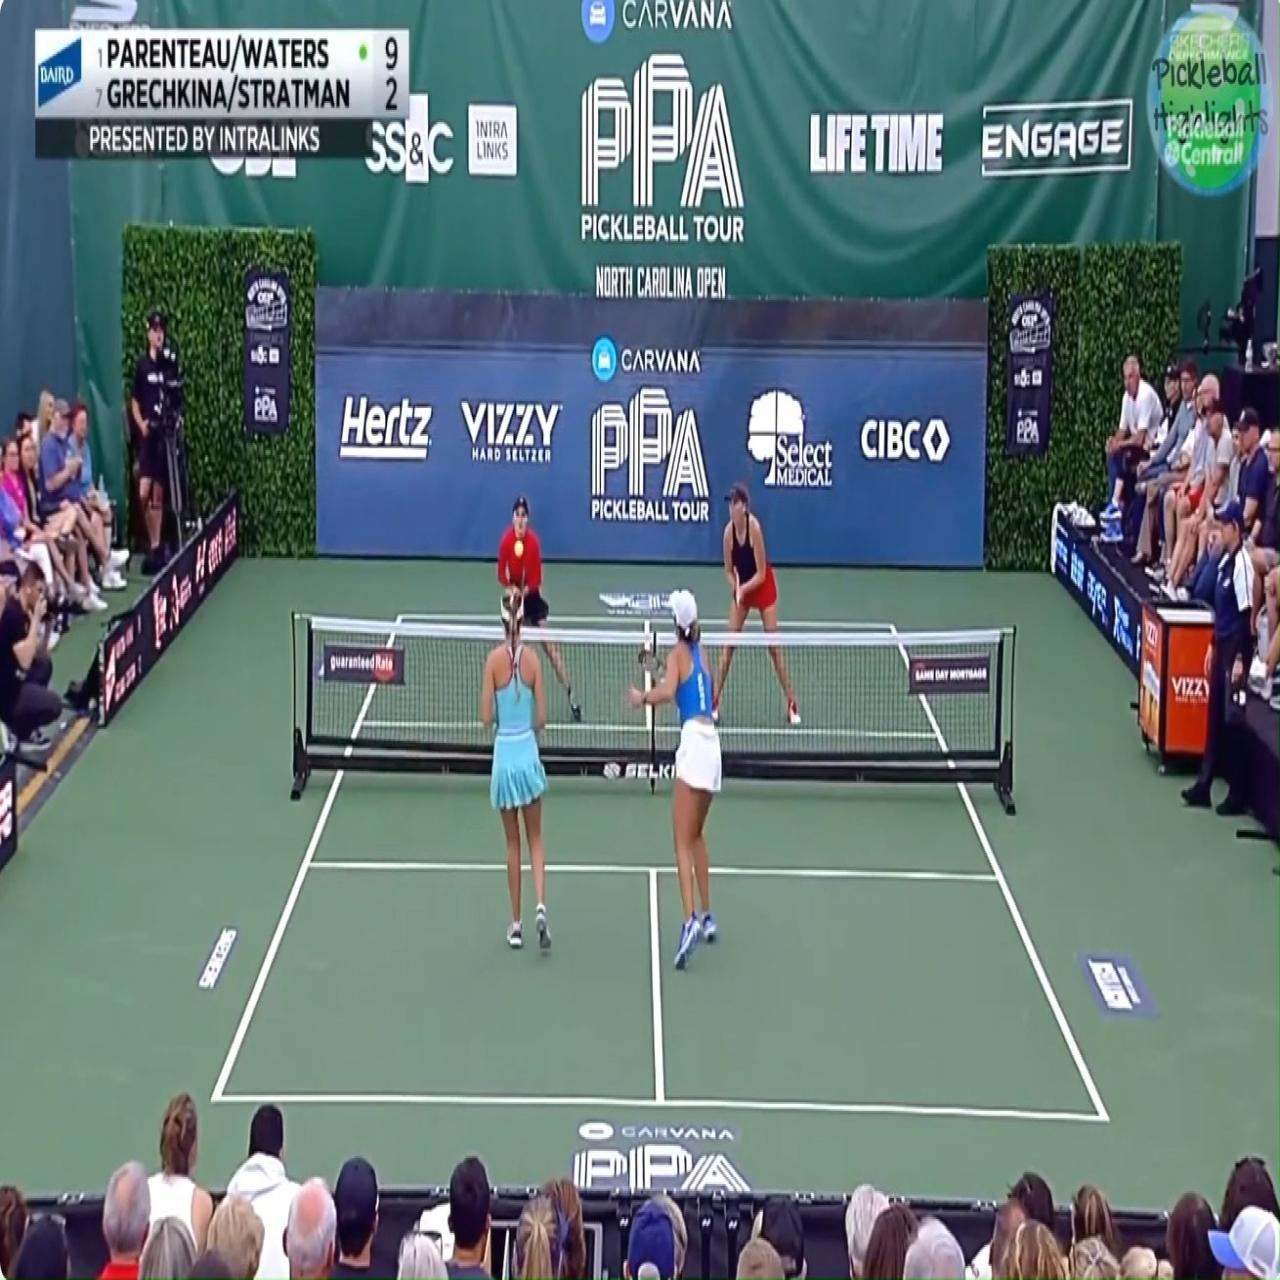pickleball: (513, 539, 524, 558)
